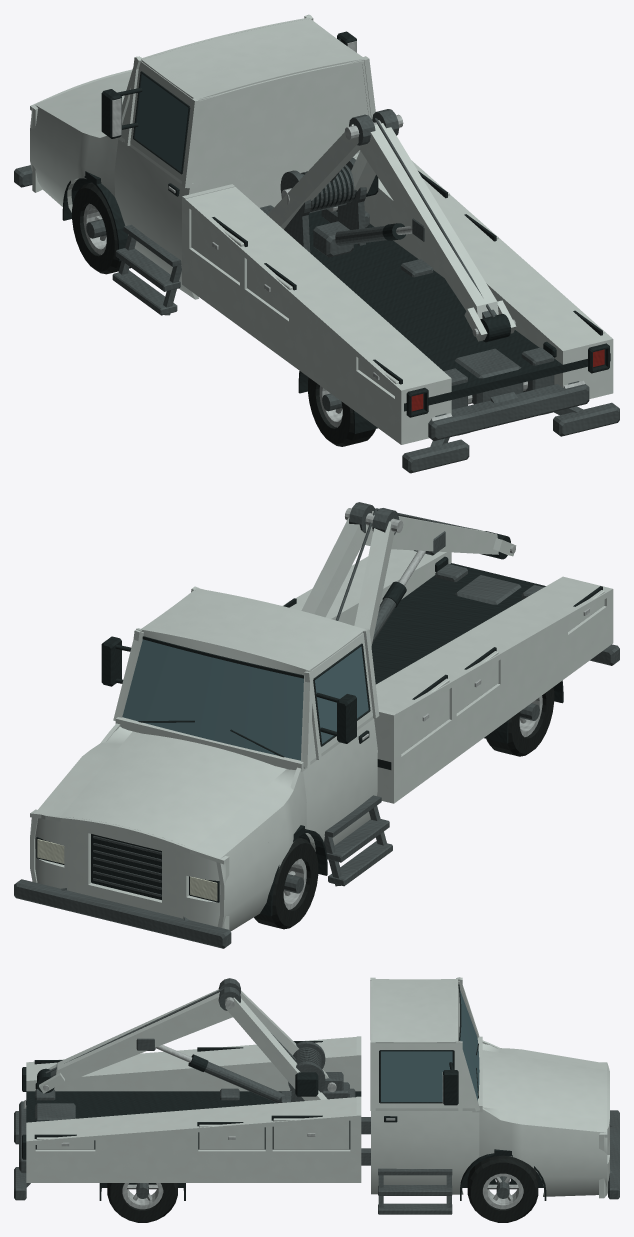
3 renders of one model, top to bottom at view 1: azimuth 30°, elevation 25°; view 2: azimuth 150°, elevation 25°; view 3: azimuth 270°, elevation 25°, orthographic. The views are drawn at different scales.
Visible parts, largest first — view 1: B029-08_equipment_paint, B029-08_body_shell_paint, B029-08_floor_dark, B029-08_equipment_steel, B029-08_roof_paint, B029-08_door_leaf_paint_work_cab_door-1, B029-08_mount_steel, B029-08_door_leaf_glass_work_cab_door-1, B029-08_bumper_steel, B029-08_steps_steel, B029-08_equipment_dark, B029-08_wheel_rubber_P-0.9750_2.3500_0.4500 (+6 smaller); view 2: B029-08_body_shell_paint, B029-08_equipment_paint, B029-08_glazing_glass, B029-08_roof_paint, B029-08_floor_dark, B029-08_door_leaf_paint_work_cab_door-1, B029-08_bumper_steel, B029-08_lamps_dark, B029-08_steps_steel, B029-08_door_leaf_glass_work_cab_door-1, B029-08_wheel_rubber_P-0.9750_2.3500_0.4500, B029-08_mount_steel (+11 smaller); view 3: B029-08_equipment_paint, B029-08_body_shell_paint, B029-08_door_leaf_paint_work_cab_door1, B029-08_roof_paint, B029-08_floor_dark, B029-08_equipment_steel, B029-08_door_leaf_glass_work_cab_door1, B029-08_wheel_rubber_P0.9750_2.3500_0.4500, B029-08_equipment_dark, B029-08_steps_steel, B029-08_mount_steel, B029-08_wheel_rubber_P0.9750_-2.2000_0.4500 (+9 smaller).
Boxes of the visible parts, x1=… form: B029-08_equipment_paint: x1=182, y1=123, x2=613, y2=444; B029-08_body_shell_paint: x1=30, y1=14, x2=375, y2=299; B029-08_floor_dark: x1=308, y1=210, x2=610, y2=411; B029-08_equipment_steel: x1=260, y1=109, x2=589, y2=440; B029-08_roof_paint: x1=141, y1=19, x2=364, y2=99; B029-08_door_leaf_paint_work_cab_door-1: x1=127, y1=61, x2=192, y2=297; B029-08_mount_steel: x1=313, y1=209, x2=583, y2=446; B029-08_door_leaf_glass_work_cab_door-1: x1=134, y1=74, x2=188, y2=171; B029-08_bumper_steel: x1=14, y1=165, x2=619, y2=473; B029-08_steps_steel: x1=112, y1=235, x2=181, y2=315; B029-08_equipment_dark: x1=212, y1=164, x2=602, y2=384; B029-08_wheel_rubber_P-0.9750_2.3500_0.4500: x1=72, y1=182, x2=130, y2=274; B029-08_body_shell_paint: x1=30, y1=586, x2=379, y2=931; B029-08_equipment_paint: x1=282, y1=511, x2=613, y2=803; B029-08_glazing_glass: x1=122, y1=639, x2=303, y2=760; B029-08_roof_paint: x1=142, y1=588, x2=364, y2=670; B029-08_floor_dark: x1=299, y1=563, x2=545, y2=840; B029-08_door_leaf_paint_work_cab_door-1: x1=312, y1=633, x2=375, y2=845; B029-08_bumper_steel: x1=14, y1=644, x2=619, y2=948; B029-08_lamps_dark: x1=36, y1=834, x2=219, y2=902; B029-08_steps_steel: x1=324, y1=806, x2=392, y2=886; B029-08_door_leaf_glass_work_cab_door-1: x1=315, y1=646, x2=368, y2=743; B029-08_wheel_rubber_P-0.9750_2.3500_0.4500: x1=254, y1=837, x2=318, y2=929; B029-08_mount_steel: x1=61, y1=531, x2=543, y2=920; B029-08_equipment_paint: x1=26, y1=989, x2=361, y2=1182; B029-08_body_shell_paint: x1=370, y1=977, x2=609, y2=1198; B029-08_door_leaf_paint_work_cab_door1: x1=374, y1=1043, x2=458, y2=1194; B029-08_roof_paint: x1=372, y1=979, x2=457, y2=1043; B029-08_floor_dark: x1=26, y1=1091, x2=361, y2=1122; B029-08_equipment_steel: x1=19, y1=978, x2=343, y2=1172; B029-08_door_leaf_glass_work_cab_door1: x1=381, y1=1051, x2=452, y2=1101; B029-08_wheel_rubber_P0.9750_2.3500_0.4500: x1=467, y1=1155, x2=538, y2=1222; B029-08_equipment_dark: x1=34, y1=1041, x2=350, y2=1149; B029-08_steps_steel: x1=378, y1=1175, x2=452, y2=1214; B029-08_mount_steel: x1=22, y1=1038, x2=612, y2=1187; B029-08_wheel_rubber_P0.9750_-2.2000_0.4500: x1=107, y1=1183, x2=177, y2=1222.
Bounding box in the file's own units: 2.75 × 2.81 × 7.65.
Materials: 9 (9 with a texture image).
